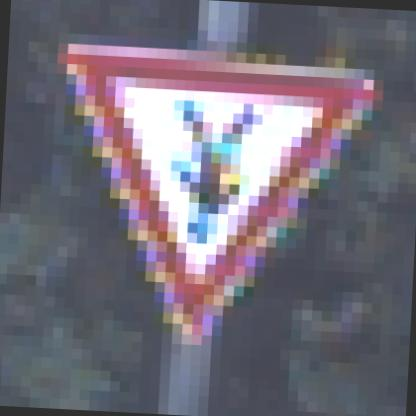crosswalk: (37, 26, 397, 368)
